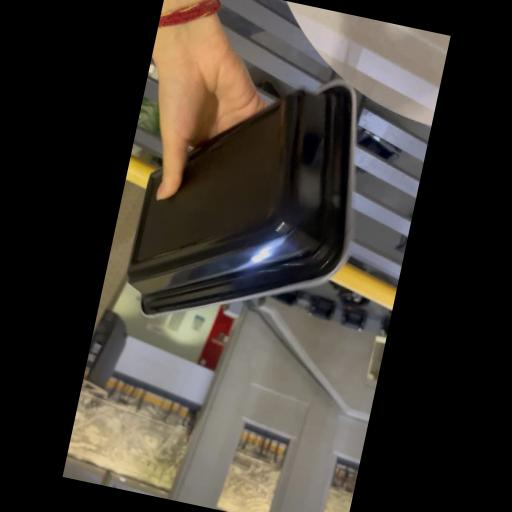rigid_plastic_container: (108, 36, 378, 366)
